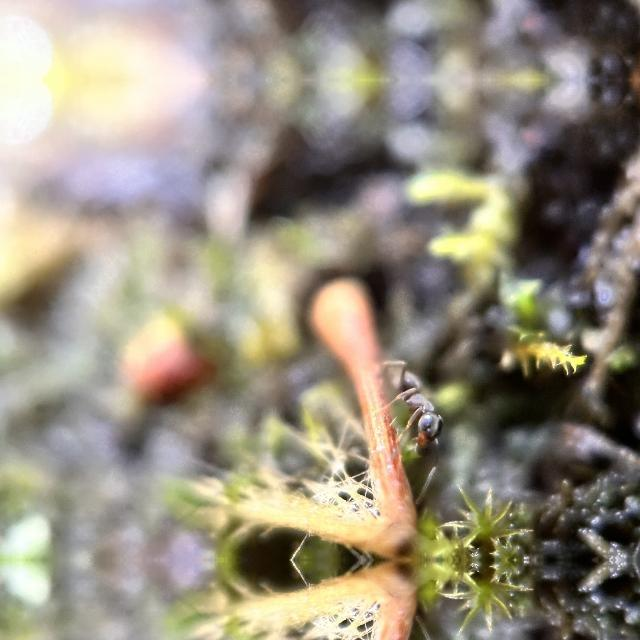Tapinoma: (392, 342, 454, 446)
